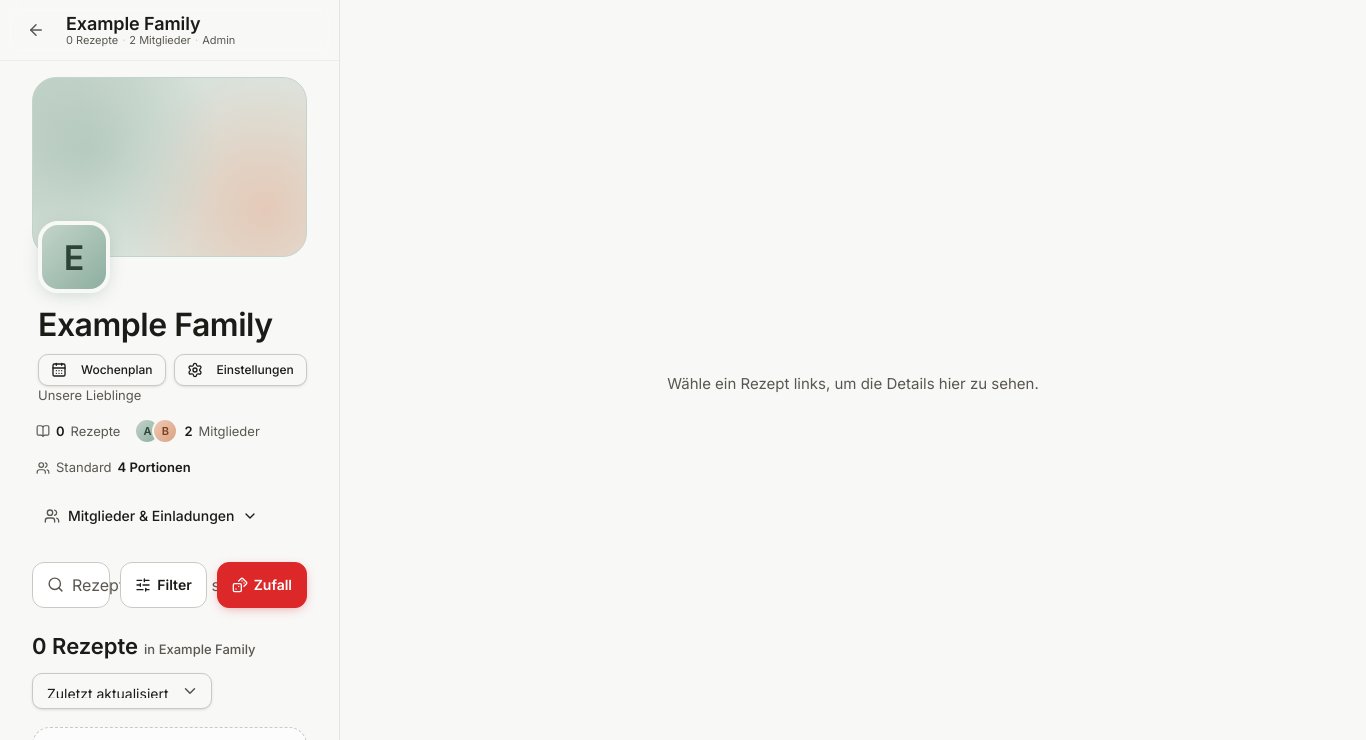
it: <GroupDetailPage /> › expanding the toggle reveals the members list
Click the button "Mitglieder & Einladungen" at point(151, 516), box x1=32 y1=498 x2=270 y2=534
(page scrolled)
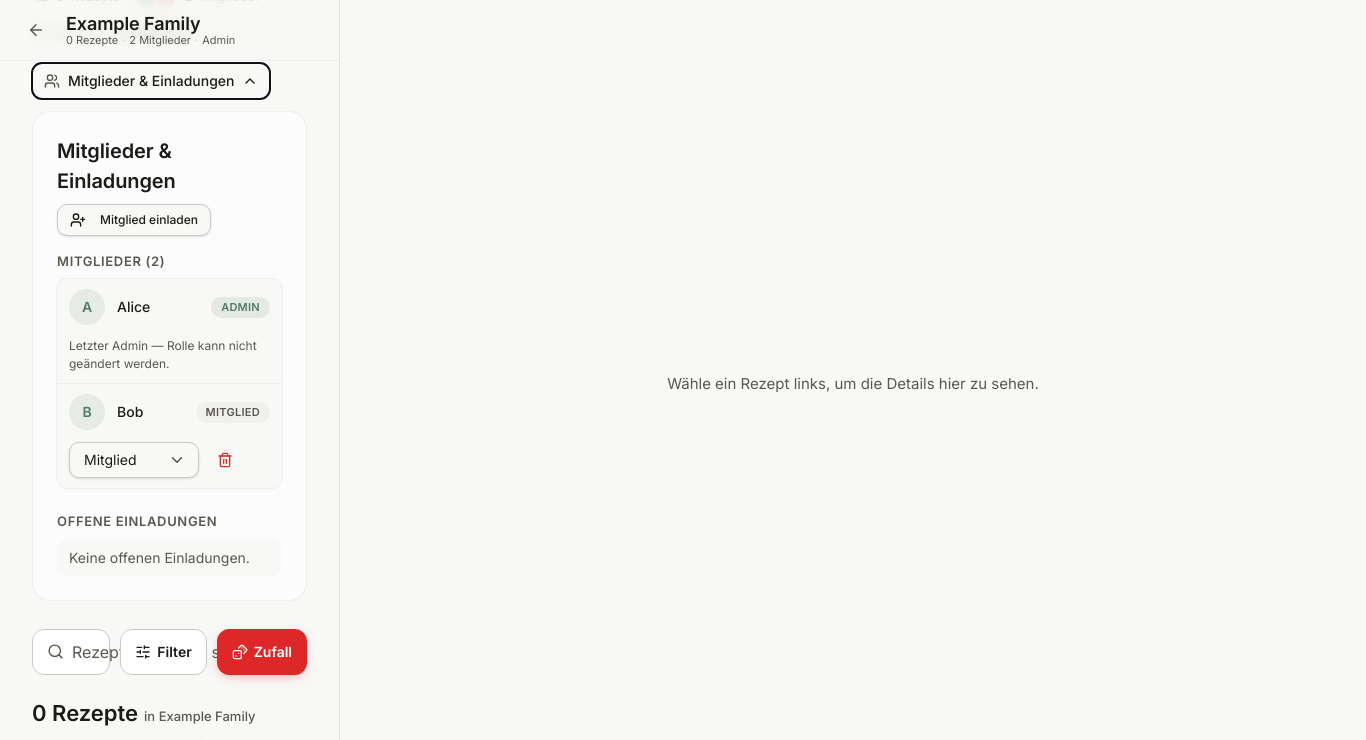
Check: the heading "Mitglieder & Einladungen" is shown, box x1=57 y1=139 x2=176 y2=193
Check: the list named "mitglieder" shows "Alice", box x1=117 y1=298 x2=150 y2=315
Check: the list named "mitglieder" shows "Bob", box x1=117 y1=403 x2=143 y2=420
